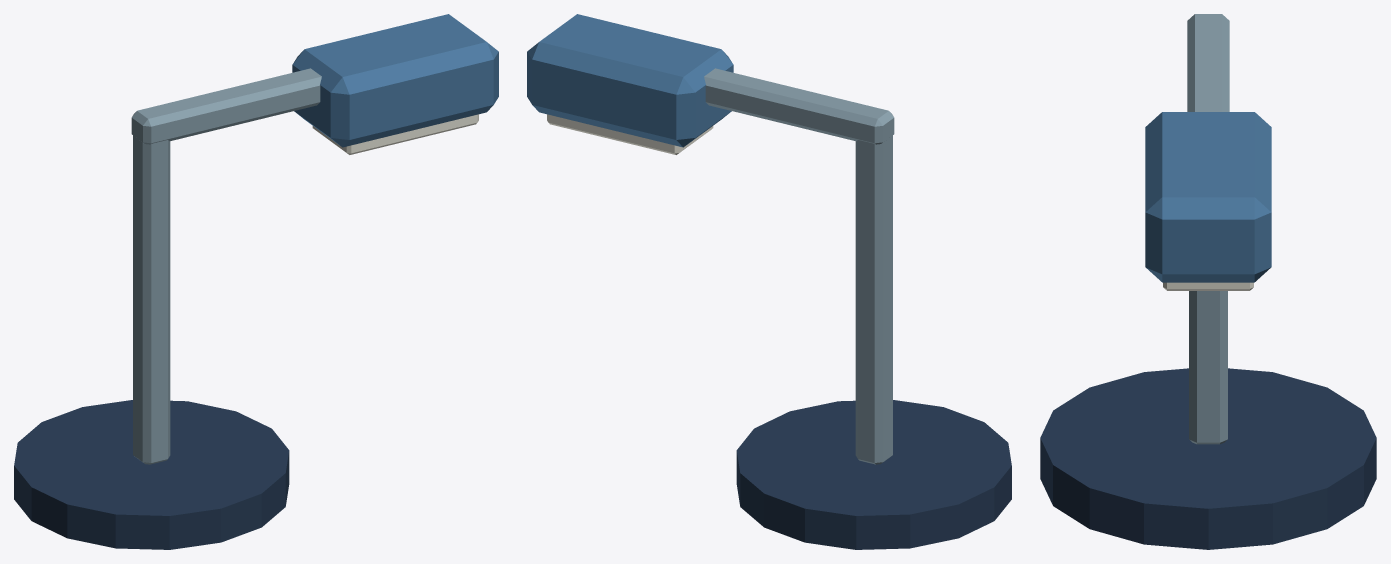
File: angled_desk_lamp.glb
3 renders of one model, left to right at view 1: azimuth 30°, elevation 25°; view 2: azimuth 150°, elevation 25°; view 3: azimuth 270°, elevation 25°, orthographic. The views are drawn at different scales.
Visible parts, largest first — view 1: lamp_base, lamp_head, lamp_upright, lamp_arm, lamp_diffuser; view 2: lamp_base, lamp_head, lamp_upright, lamp_arm, lamp_diffuser; view 3: lamp_base, lamp_head, lamp_upright, lamp_arm, lamp_diffuser.
Part boxes in pixels (x1,y1,x2,y2): lamp_base: (14,400,289,549); lamp_head: (292,14,498,147); lamp_upright: (133,135,170,464); lamp_arm: (131,68,321,144); lamp_diffuser: (312,114,478,154); lamp_base: (736,400,1011,549); lamp_head: (527,14,733,147); lamp_upright: (855,135,892,464); lamp_arm: (704,68,894,144); lamp_diffuser: (547,114,713,154); lamp_base: (1040,368,1376,549); lamp_head: (1145,112,1271,282); lamp_upright: (1189,291,1227,444); lamp_arm: (1187,14,1229,111); lamp_diffuser: (1163,282,1253,290).
Bounding box in the file's own units: 0.373 × 0.3075 × 0.2.
